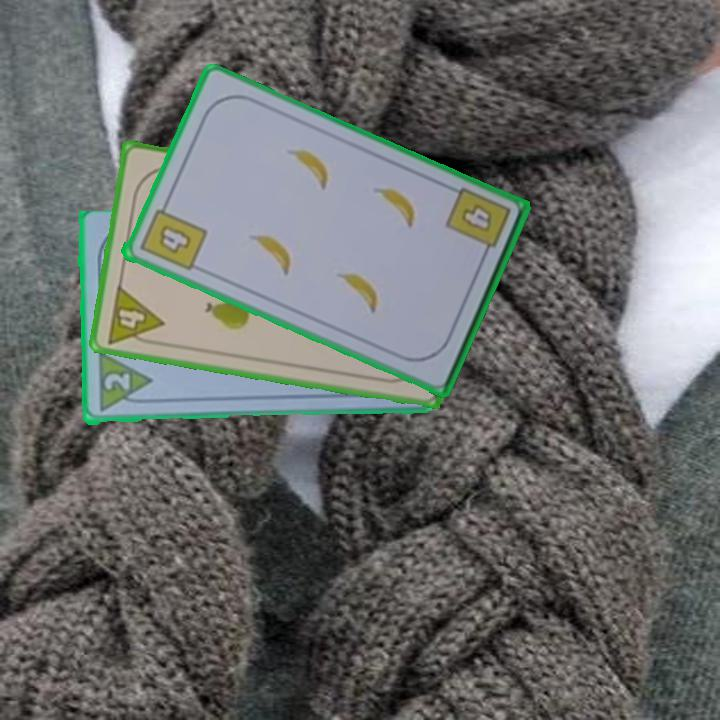2p: (100, 369, 133, 393)
4b: (135, 196, 209, 274), (457, 200, 495, 236)
4p: (103, 281, 167, 349)
